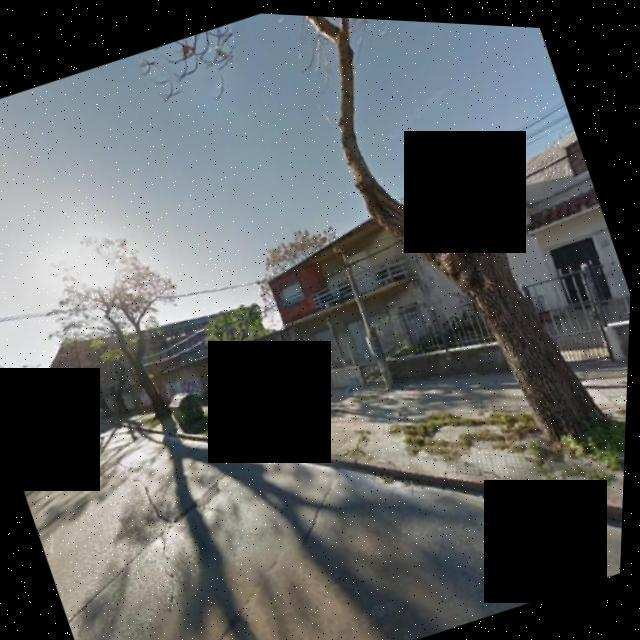bin: (157, 373, 227, 440)
